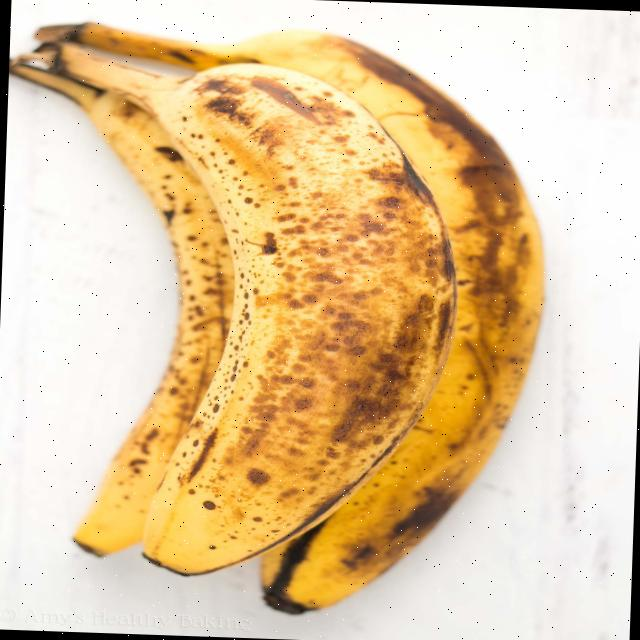Pisang: (0, 17, 552, 622)
